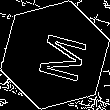M_W: (25, 26, 85, 84)
